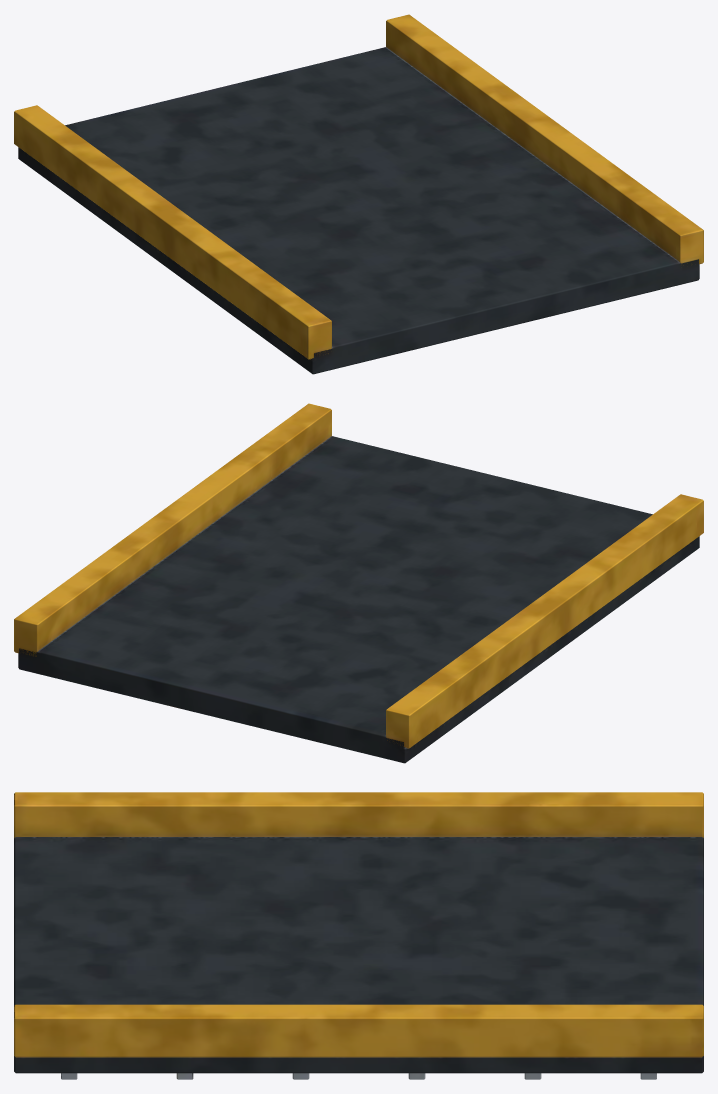
The model's file is bridge_deck_steel.glb.
The picture shows the model from 3 angles, top to bottom: view 1: azimuth 30°, elevation 25°; view 2: azimuth 150°, elevation 25°; view 3: azimuth 270°, elevation 25°; orthographic projection. The views are drawn at different scales.
Parts seen in each view (by area): view 1: BridgeDeckSteel; view 2: BridgeDeckSteel; view 3: BridgeDeckSteel.
Part boxes in pixels (<box>): BridgeDeckSteel: <box>14,14,703,374</box>; BridgeDeckSteel: <box>14,403,703,763</box>; BridgeDeckSteel: <box>14,792,703,1079</box>.
Size of the model in its own units: 3.88 by 0.6098 by 5.
1 material, 1 textured.
